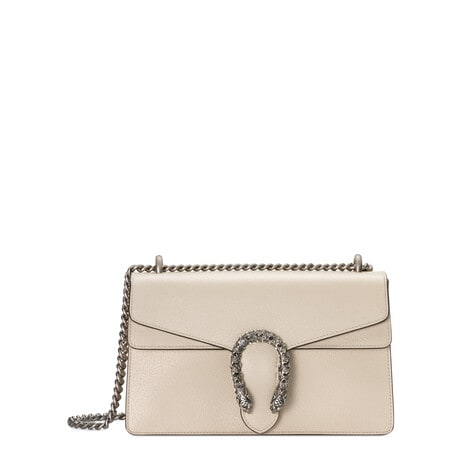Gucci: (100, 244, 408, 456), (221, 313, 302, 422)
